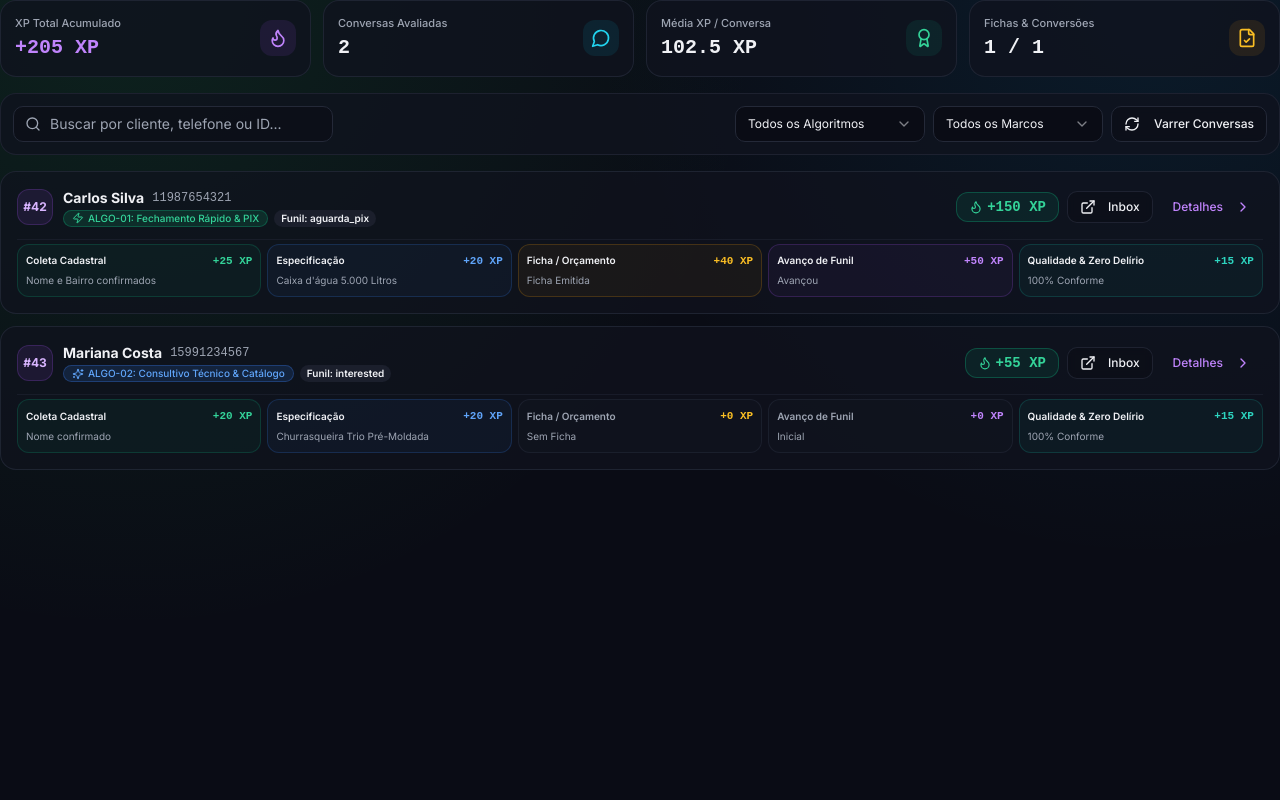
Test: ConversationScoresSection Interactivity › opens interactive detail modal upon clicking Detalhes
The width and height of the screenshot is (1280, 800).
Click the button "Detalhes" in the row of "150". click: (1212,207)
box: [1161, 191, 1263, 223]
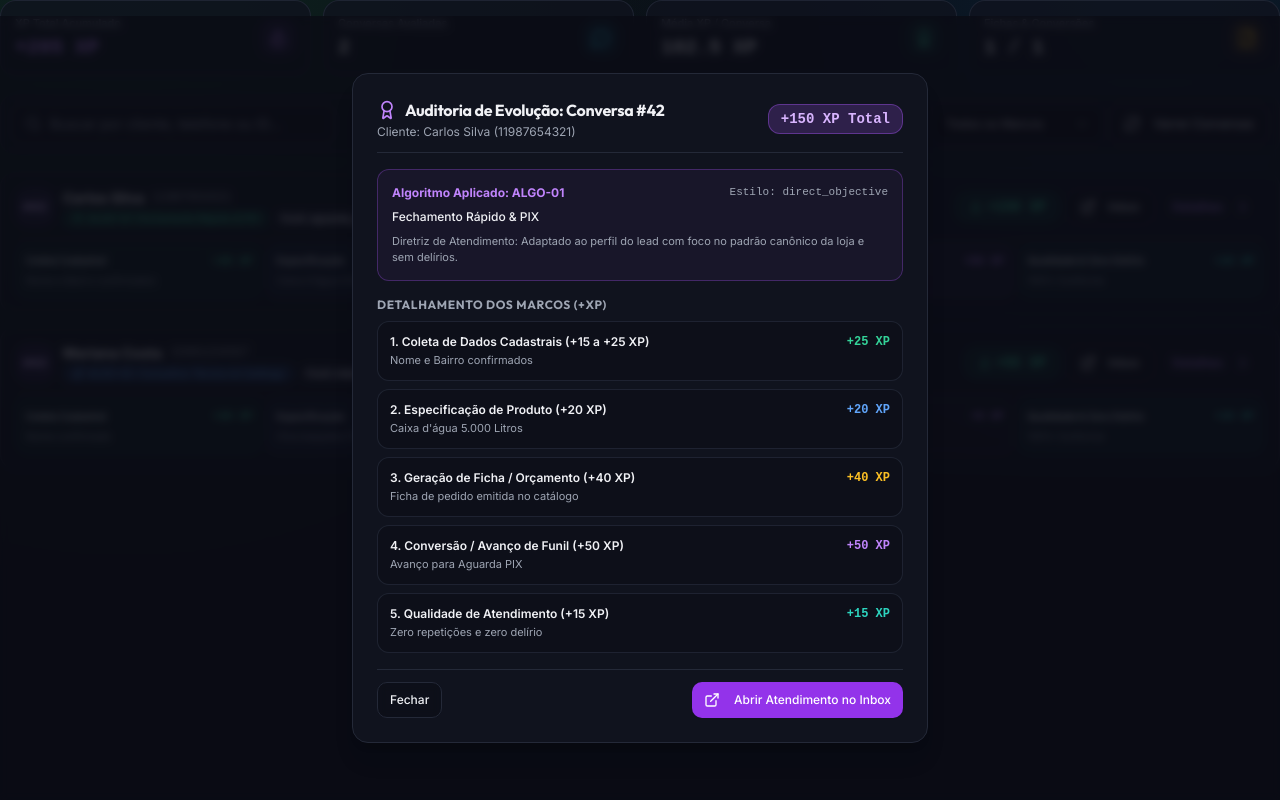
Now the text "Auditoria de Evolução: Conversa #42" is shown, box [377, 98, 664, 122]
Now the text "1. Coleta de Dados Cadastrais (+15 a +25 XP)" is shown, box [390, 334, 650, 350]
Now the text "2. Especificação de Produto (+20 XP)" is shown, box [390, 402, 607, 418]
